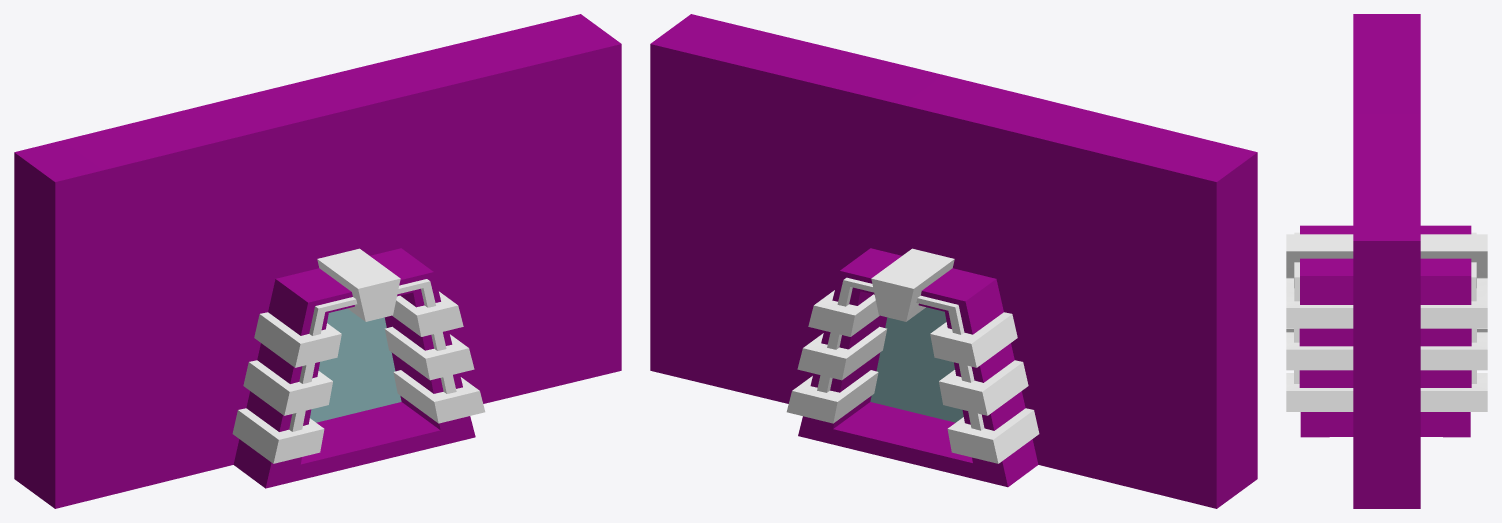
Rendered from Wall.fbx.
3 renders of one model, left to right at view 1: azimuth 30°, elevation 25°; view 2: azimuth 150°, elevation 25°; view 3: azimuth 270°, elevation 25°, orthographic. The views are drawn at different scales.
Visible parts, largest first — view 1: Box004; view 2: Box004; view 3: Box004.
Boxes of the visible parts, box(x1,y1,x2,y2) form: Box004: box(14, 14, 621, 508); Box004: box(650, 14, 1257, 508); Box004: box(1286, 14, 1487, 508).
Bounding box in the file's own units: 1942 × 1072 × 729.
